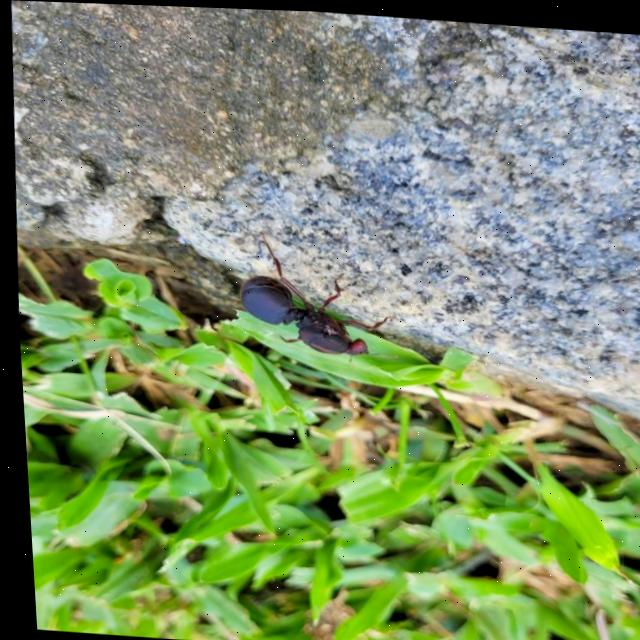Alive-Female-Dealate: (231, 228, 397, 361)
